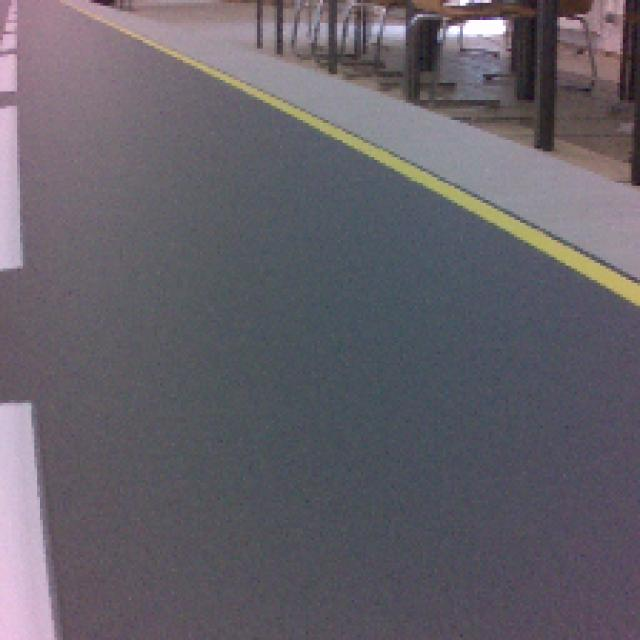Road: (35, 321, 640, 640)
